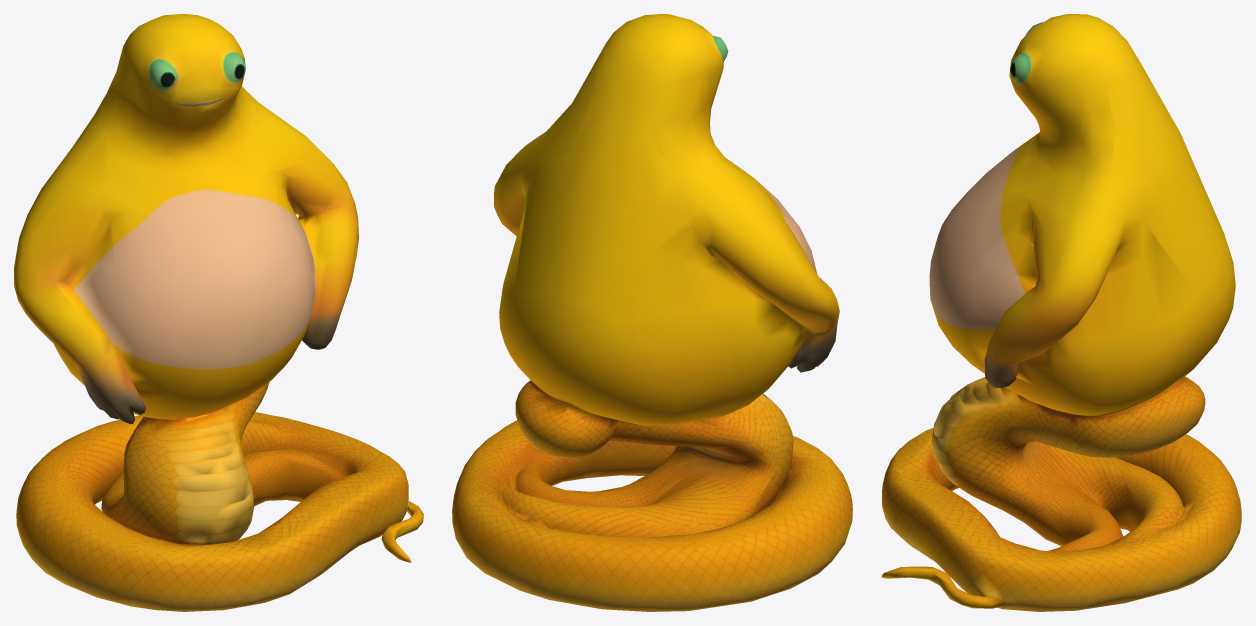
3 views of the same model, side by side, from view 1: azimuth 30°, elevation 25°; view 2: azimuth 150°, elevation 25°; view 3: azimuth 270°, elevation 25° (orthographic). The views are drawn at different scales.
Visible parts, largest first — view 1: tripo_node_5f07ce4b; view 2: tripo_node_5f07ce4b; view 3: tripo_node_5f07ce4b.
Part boxes in pixels (x1=…): tripo_node_5f07ce4b: x1=14, y1=14, x2=423, y2=611; tripo_node_5f07ce4b: x1=452, y1=14, x2=852, y2=611; tripo_node_5f07ce4b: x1=881, y1=14, x2=1241, y2=611.
Size of the model in its own units: 0.7304 by 1 by 0.6523.
1 material, 1 textured.
